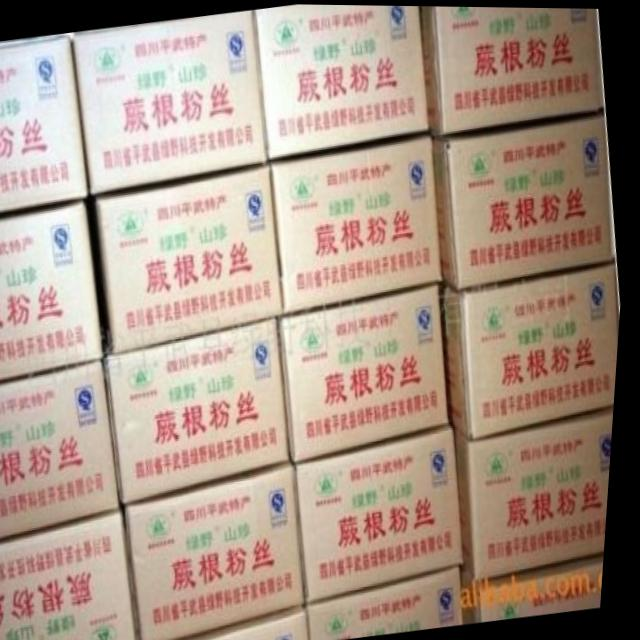box: (72, 11, 270, 197), (98, 166, 287, 355), (109, 318, 297, 507), (434, 113, 619, 290), (132, 463, 313, 640), (444, 261, 623, 438), (300, 424, 472, 605), (274, 135, 447, 314), (282, 283, 454, 462), (460, 406, 619, 582), (253, 4, 430, 159), (419, 5, 606, 134), (0, 356, 126, 545), (0, 201, 108, 381), (0, 509, 146, 640), (0, 37, 89, 214), (315, 567, 472, 640), (466, 554, 611, 621), (192, 605, 317, 640)
